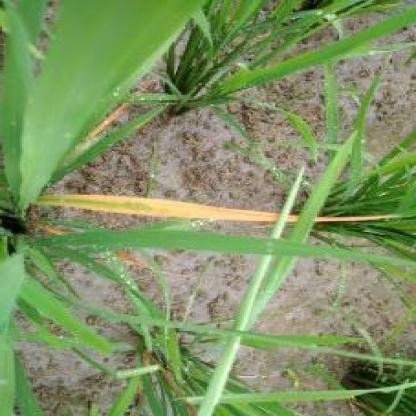Tungro: (31, 193, 280, 222)
